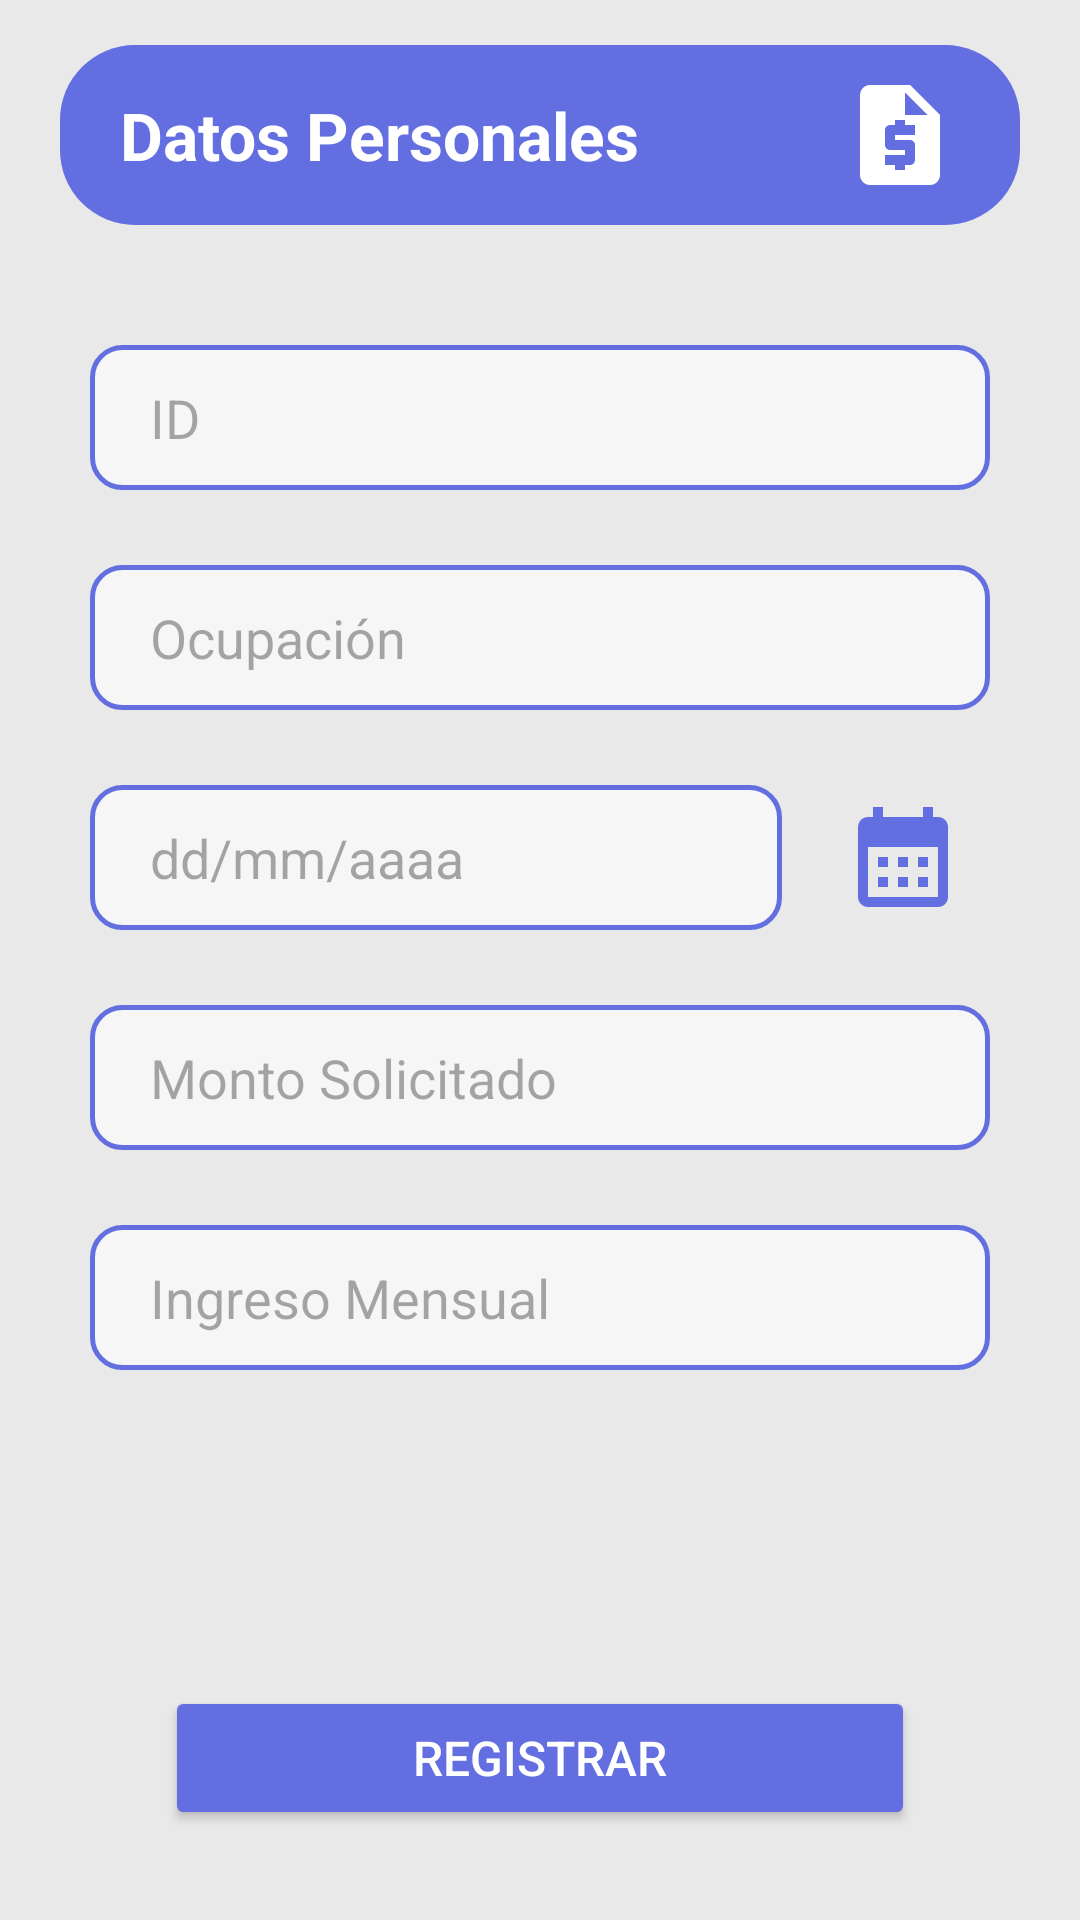

Named icons in this screenshot (1080*1920) and their bounding boxes, (x1=x1, y1=y1, x2=x2, y2=y2):
add solicitud: (x1=860, y1=85, x2=940, y2=185)
calendar: (x1=858, y1=807, x2=948, y2=907)
